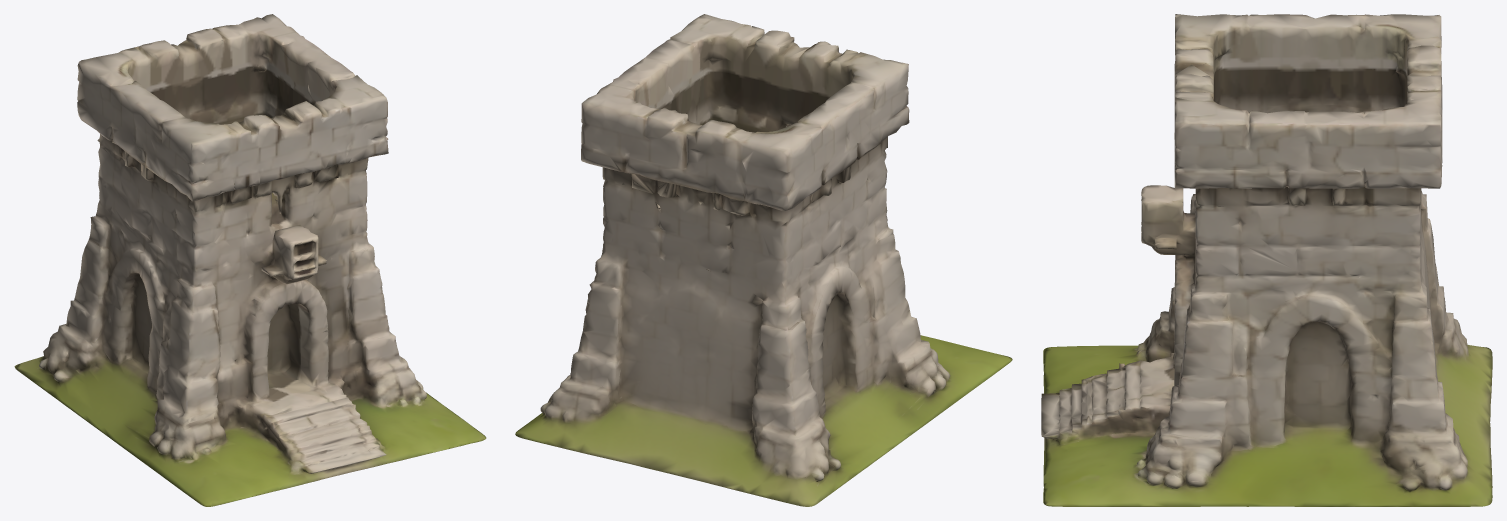
Rendered from tower.glb.
The picture shows the model from 3 angles, left to right: view 1: azimuth 30°, elevation 25°; view 2: azimuth 150°, elevation 25°; view 3: azimuth 270°, elevation 25°; orthographic projection. The views are drawn at different scales.
Visible parts, largest first — view 1: model; view 2: model; view 3: model.
Part boxes in pixels (<box>): model: <box>14,14,486,506</box>; model: <box>515,14,1012,506</box>; model: <box>1041,14,1492,506</box>.
Bounding box in the file's own units: 1.6 × 1.69 × 1.9.
1 material, 1 textured.
